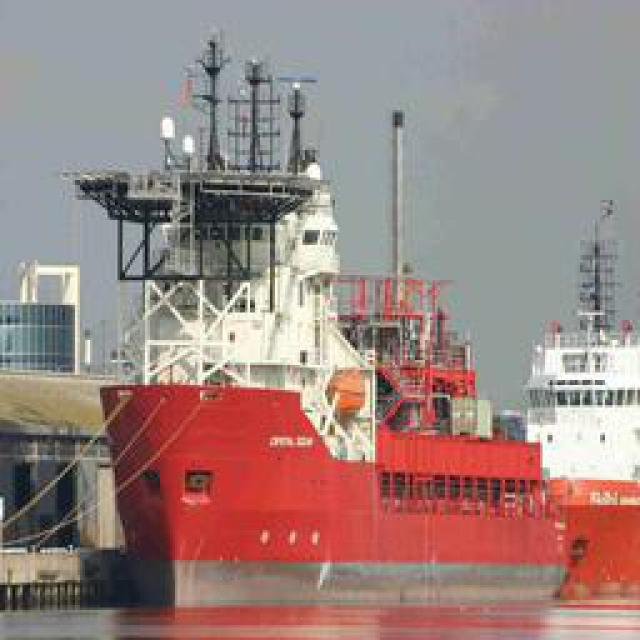Ship: (63, 65, 571, 623)
